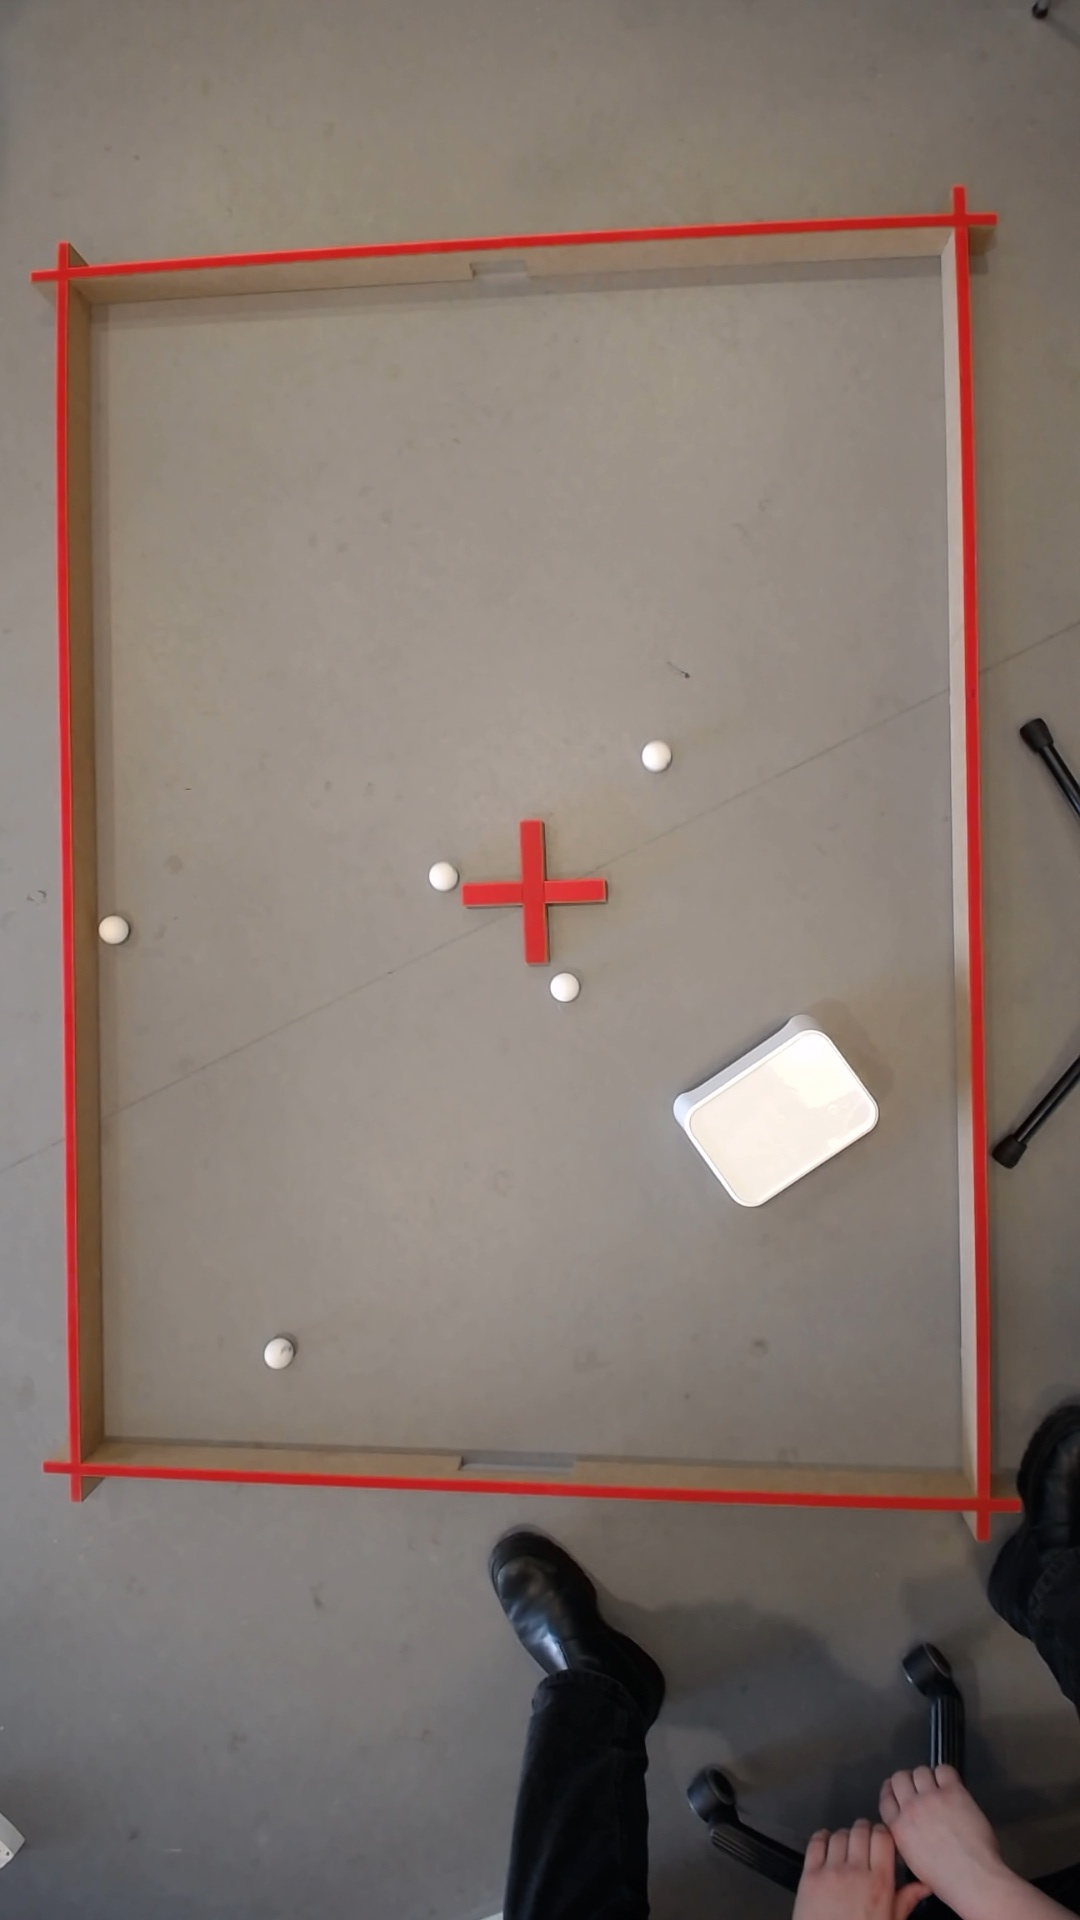balls: (665, 1005, 886, 1216), (543, 967, 583, 1006), (636, 737, 671, 774), (422, 857, 458, 893), (94, 913, 125, 944)
car: (261, 1340, 282, 1367)
